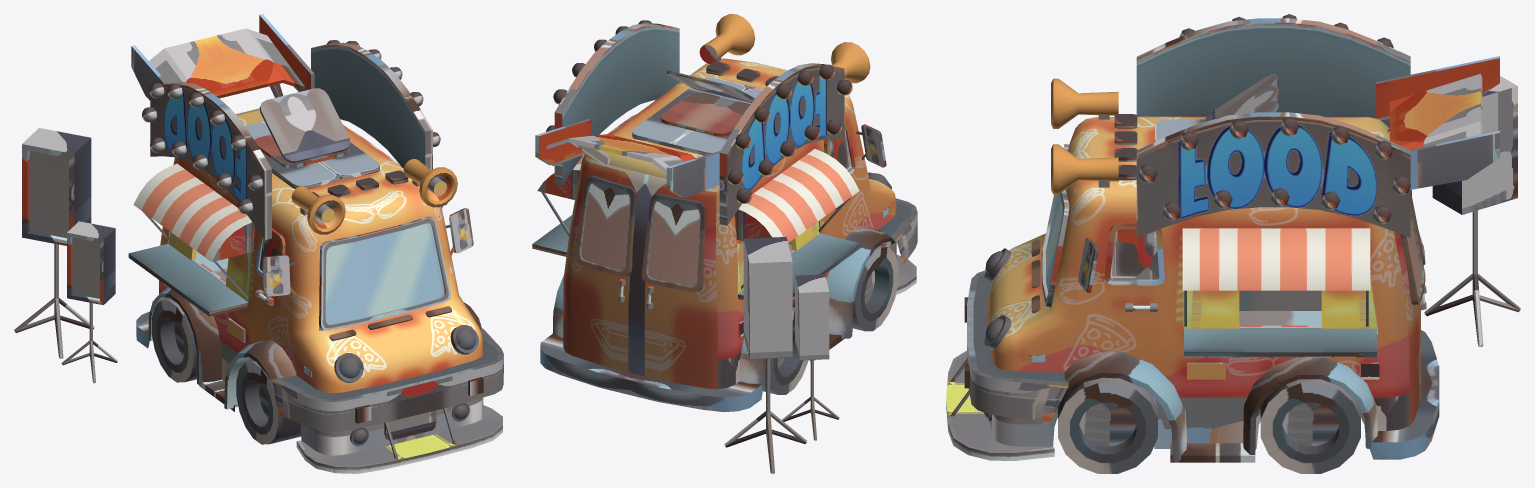
Rendered from food truck_7.fbx.
The picture shows the model from 3 angles, left to right: view 1: azimuth 30°, elevation 25°; view 2: azimuth 150°, elevation 25°; view 3: azimuth 270°, elevation 25°; orthographic projection. The views are drawn at different scales.
Parts seen in each view (by area): view 1: Cube.258, Cube.261, Cube.108, Cube.244, Cylinder.016, Plane.022, Cube.236, Cube.252, Cube.109, Cylinder.048, Cube.248, Cylinder.067 (+17 smaller); view 2: Cube.258, Cube.261, Cube.256, Plane.022, Cylinder.016, Cube.260, Cylinder.048, Cube.237, Sphere.023, Circle.008, Cylinder.067, Cube.248 (+13 smaller); view 3: Cube.258, Cube.261, Plane.022, Cylinder.065, Cylinder.066, Cylinder.016, Cube.237, Cube.108, Cube.248, Cube.236, Circle.009, Cylinder.067 (+16 smaller).
Part boxes in pixels (<box>): Cube.258: <box>159,108,483,455</box>; Cube.261: <box>150,42,432,240</box>; Cube.108: <box>271,328,503,432</box>; Cube.244: <box>325,223,444,324</box>; Cylinder.016: <box>14,128,94,358</box>; Plane.022: <box>133,130,446,261</box>; Cube.236: <box>149,28,304,98</box>; Cube.252: <box>259,88,350,162</box>; Cube.109: <box>296,405,502,473</box>; Cylinder.048: <box>61,221,117,383</box>; Cube.248: <box>128,244,248,316</box>; Cylinder.067: <box>291,159,457,234</box>; Cube.258: <box>563,58,896,389</box>; Cube.261: <box>554,23,844,225</box>; Cube.256: <box>575,176,705,291</box>; Plane.022: <box>537,114,859,243</box>; Cylinder.016: <box>724,237,806,473</box>; Cube.260: <box>540,333,762,411</box>; Cylinder.048: <box>782,274,839,440</box>; Cube.237: <box>535,119,720,198</box>; Sphere.023: <box>546,20,852,203</box>; Circle.008: <box>826,226,895,338</box>; Cylinder.067: <box>699,14,870,83</box>; Cube.248: <box>532,215,861,299</box>; Cube.258: <box>988,116,1420,448</box>; Cube.261: <box>1136,18,1410,237</box>; Plane.022: <box>1182,228,1370,290</box>; Cylinder.065: <box>1058,377,1157,473</box>; Cylinder.066: <box>1260,379,1360,473</box>; Cylinder.016: <box>1424,76,1520,346</box>; Cube.237: <box>1376,56,1499,189</box>; Cube.108: <box>967,270,1068,421</box>; Cube.248: <box>1184,325,1376,357</box>; Cube.236: <box>1390,73,1482,149</box>; Circle.009: <box>1243,357,1377,454</box>; Cylinder.067: <box>1051,78,1118,194</box>.
Bounding box in the file's own units: 3.24 × 2.99 × 4.49.
